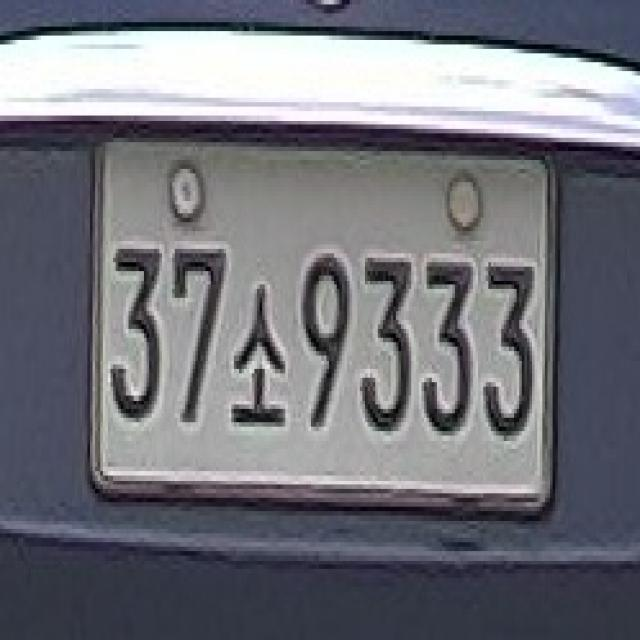3: (481, 258, 537, 440), (419, 258, 473, 436), (362, 254, 414, 436), (110, 240, 162, 418)
7: (167, 244, 226, 426)
9: (301, 249, 352, 431)
license_plate: (88, 129, 552, 502)
so: (229, 280, 288, 436)
